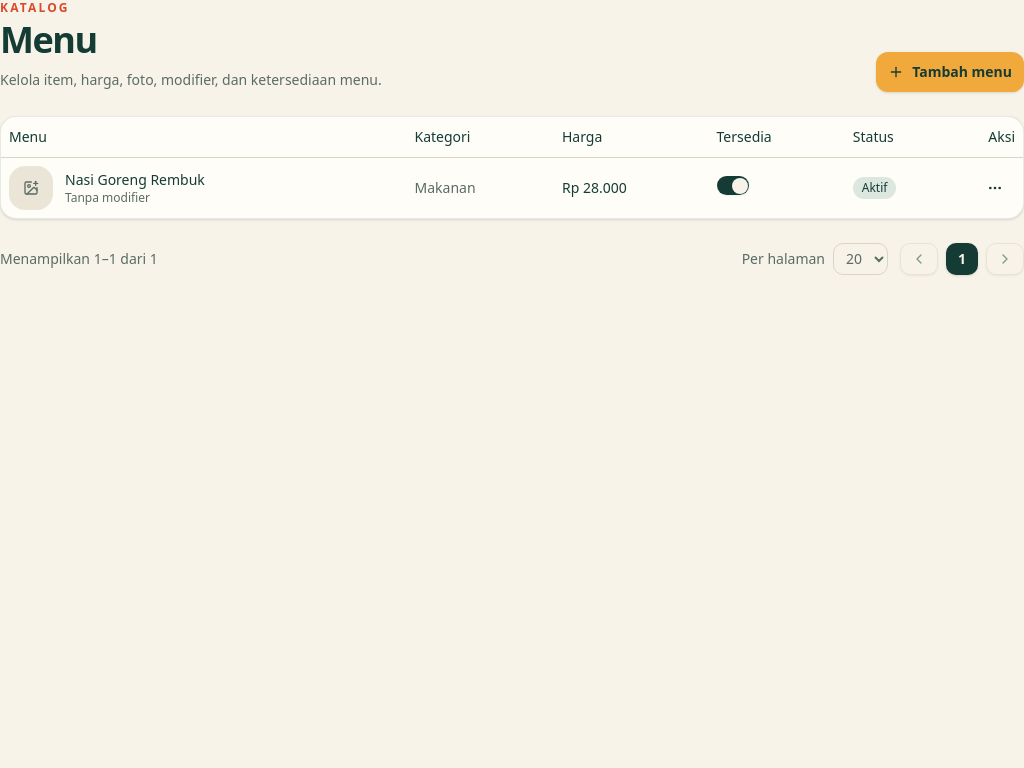
it: MenuPage › renders menu rows and opens the create dialog
Expected: the text "Nasi Goreng Rembuk" is shown, [65,170,205,190]
Expected: the text "Makanan" is shown, [406,157,554,218]
Click the button "Tambah menu".
click(950, 72)  # box [876,52,1023,92]
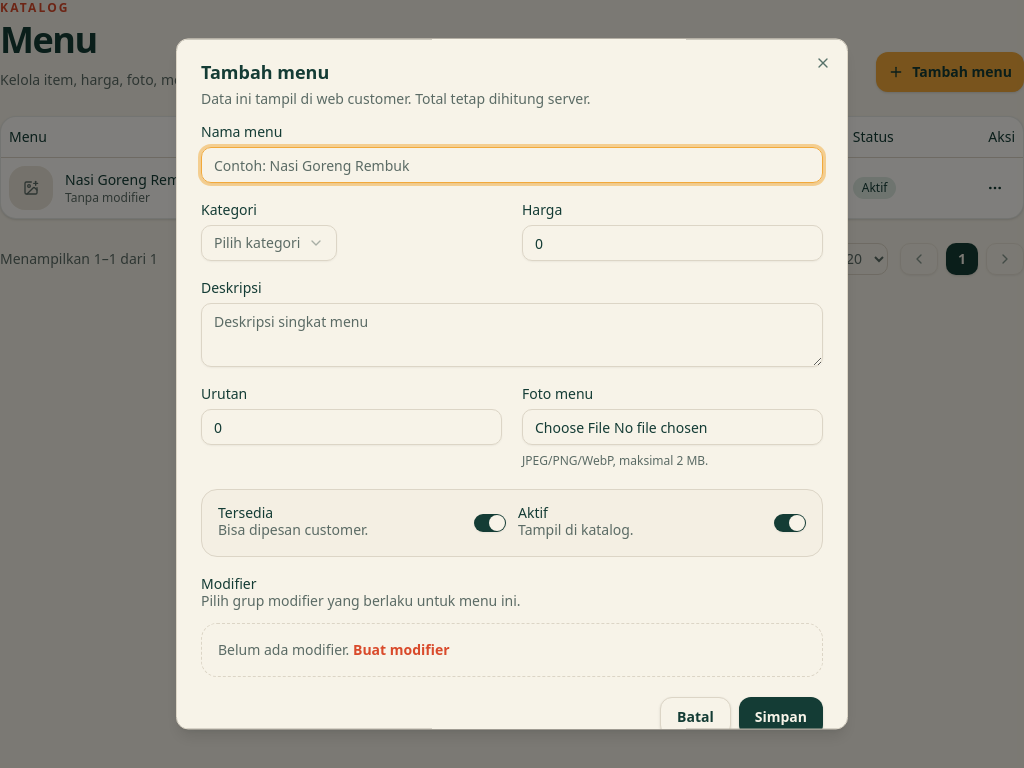
Expected: the heading "Tambah menu" is shown, [201,60,329,84]
Expected: the field labelled "Nama menu" is shown, [201,147,823,183]
